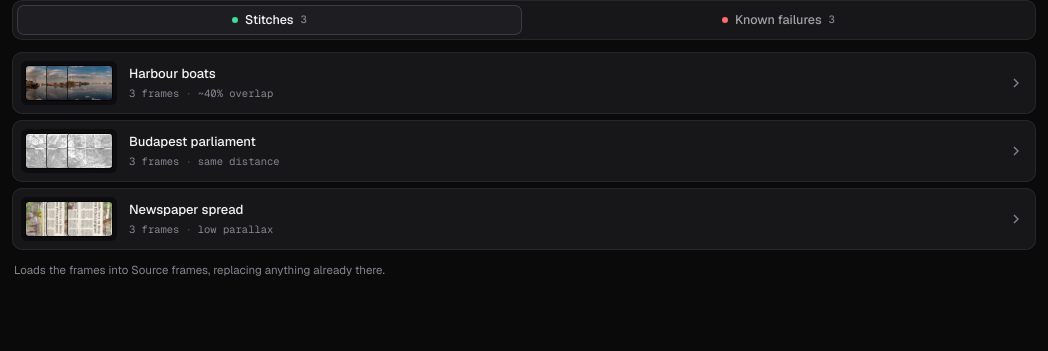
ExampleGallery › reports an actionable error instead of loading a missing asset, and retries
Click the button "Harbour boats 3 frames · ~40% overlap".
click(69, 83)  # box [12,52,1036,114]
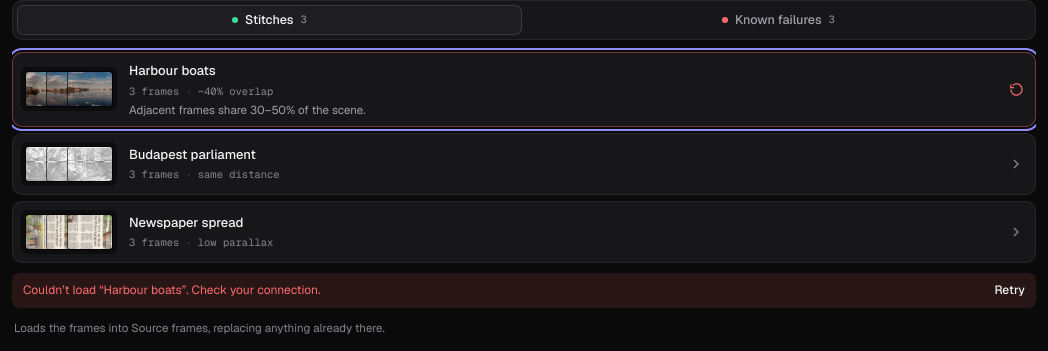
Expected: the message shows "Couldn’t load “Harbour boats”", [12,273,1036,308]
Click the button "Retry".
click(1010, 290)  # box [994,282,1025,299]
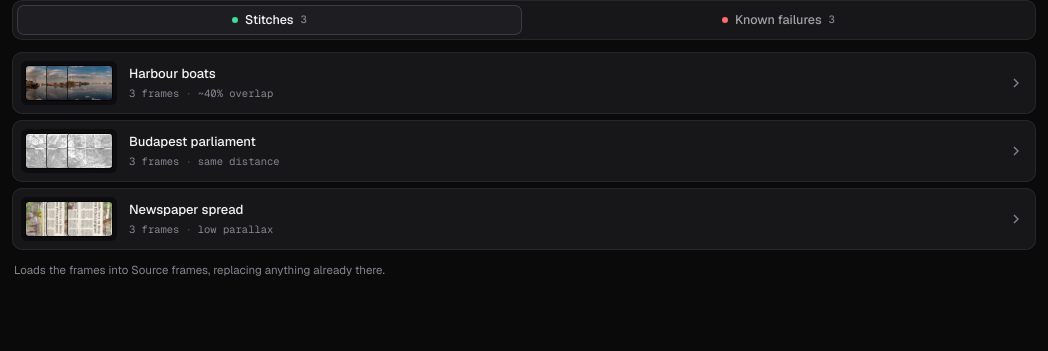
Expected: the message "Couldn’t load “Harbour boats”. Check your connection. Retry" is gone
